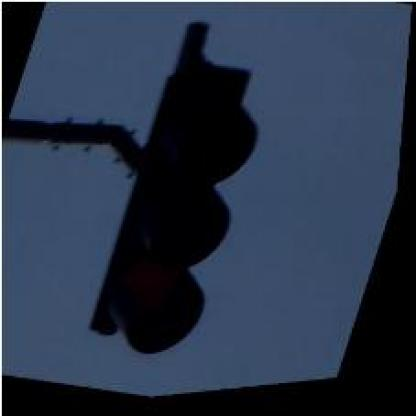red: (87, 54, 283, 375)
